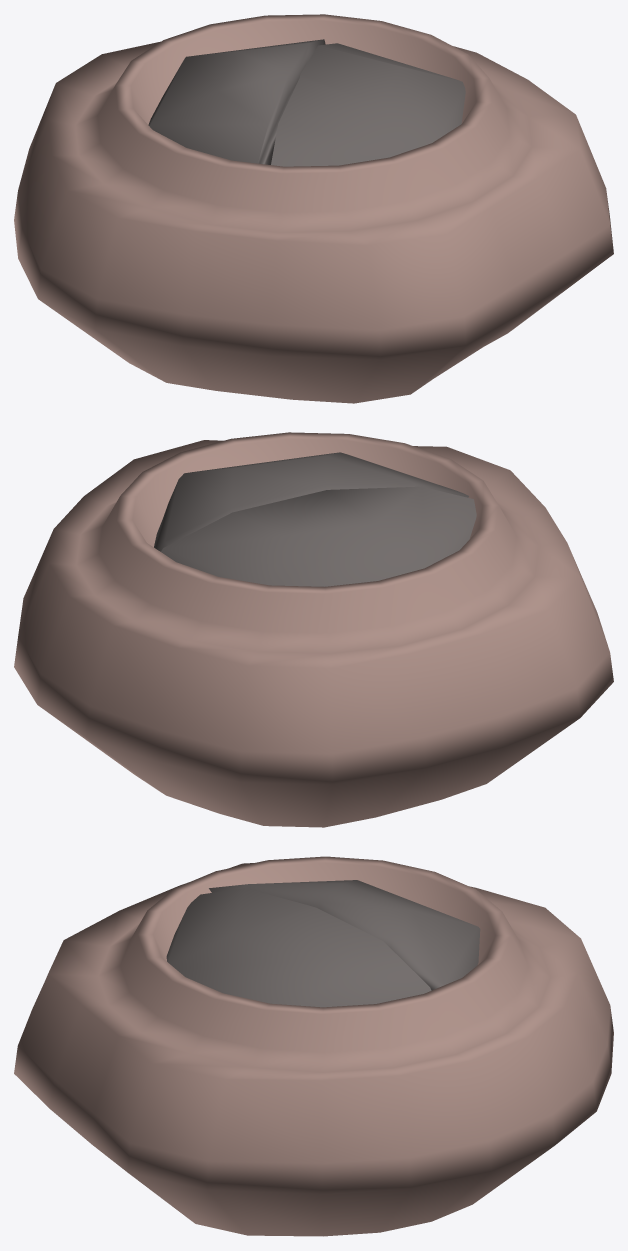
The model's file is SM_Barnacle.fbx.
The picture shows the model from 3 angles, top to bottom: view 1: azimuth 30°, elevation 25°; view 2: azimuth 150°, elevation 25°; view 3: azimuth 270°, elevation 25°; orthographic projection. The views are drawn at different scales.
Visible parts, largest first — view 1: SM_Barnacle; view 2: SM_Barnacle; view 3: SM_Barnacle.
Boxes of the visible parts, bbox=[...] form: SM_Barnacle: bbox=[14, 14, 613, 403]; SM_Barnacle: bbox=[14, 432, 613, 827]; SM_Barnacle: bbox=[14, 856, 613, 1236].
Bounding box in the file's own units: 67.96 × 36.8 × 68.98.
